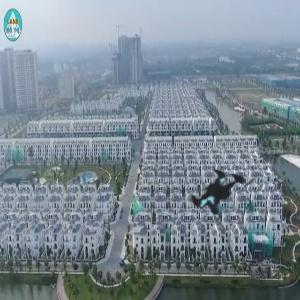drone: (165, 139, 274, 248)
